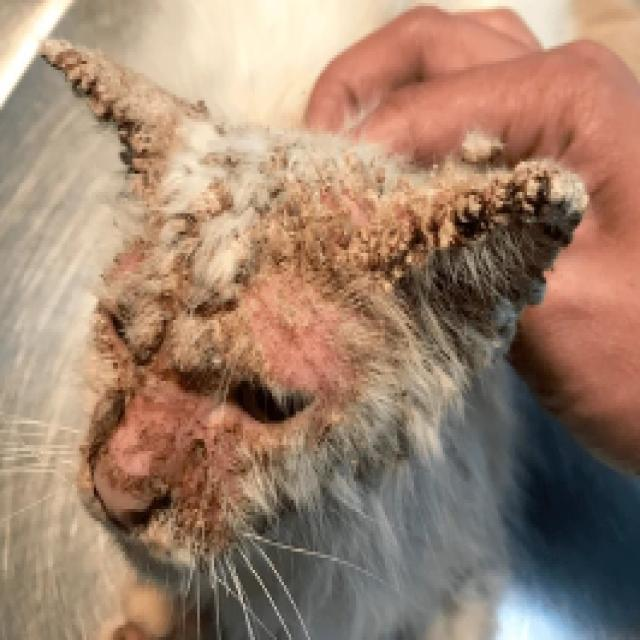Mange: (101, 383, 244, 535), (393, 165, 589, 266), (45, 44, 140, 179), (255, 278, 349, 401), (99, 313, 148, 379), (187, 282, 250, 320), (298, 222, 364, 258), (180, 202, 204, 241), (188, 92, 220, 120), (220, 147, 250, 175)
